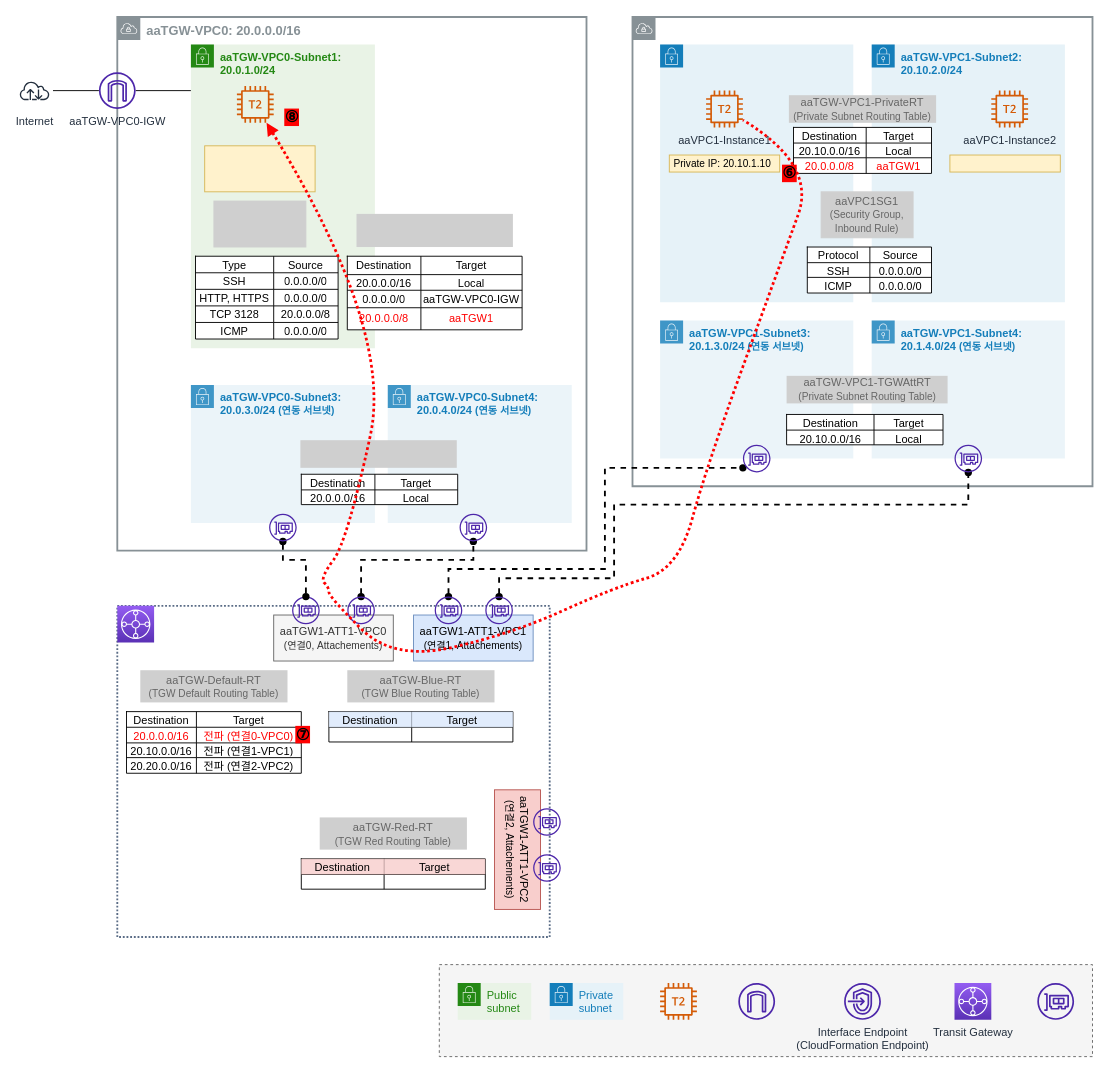
The diagram is 1110 pixels wide and 1073 high, and some of its shapes have lost their labels. Here are the shapes that lost their labels. From the top down, the box of each, then its label:
(236, 86, 273, 122): aaVPC0-Instance1
(204, 145, 315, 192): Private IP: 20.0.1.10 Public IP 사용 Web Proxy Server
(659, 44, 853, 302): aaTGW-VPC1-Subnet1: 20.10.1.0/24
(949, 154, 1060, 172): Private IP: 20.10.2.10
(213, 200, 306, 247): aaVPC0SG1 (Security Group, Inbound Rule)
(356, 213, 512, 247): aaTGW-VPC0-PublicRT (Public Subnet Routing Table)
(631, 16, 1093, 487): aaTGW-VPC1: 20.10.0.0/16
(300, 440, 456, 467): aaTGW-VPC0-TGWAttRT (Private Subnet Routing Table)
(116, 604, 550, 937): aaTGW1 (Transit Gateway)
(660, 983, 696, 1019): EC2
(738, 983, 775, 1019): IGW
(1037, 983, 1074, 1019): Attachments
